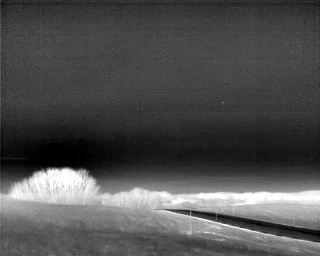BIRD: (219, 98, 226, 107)
